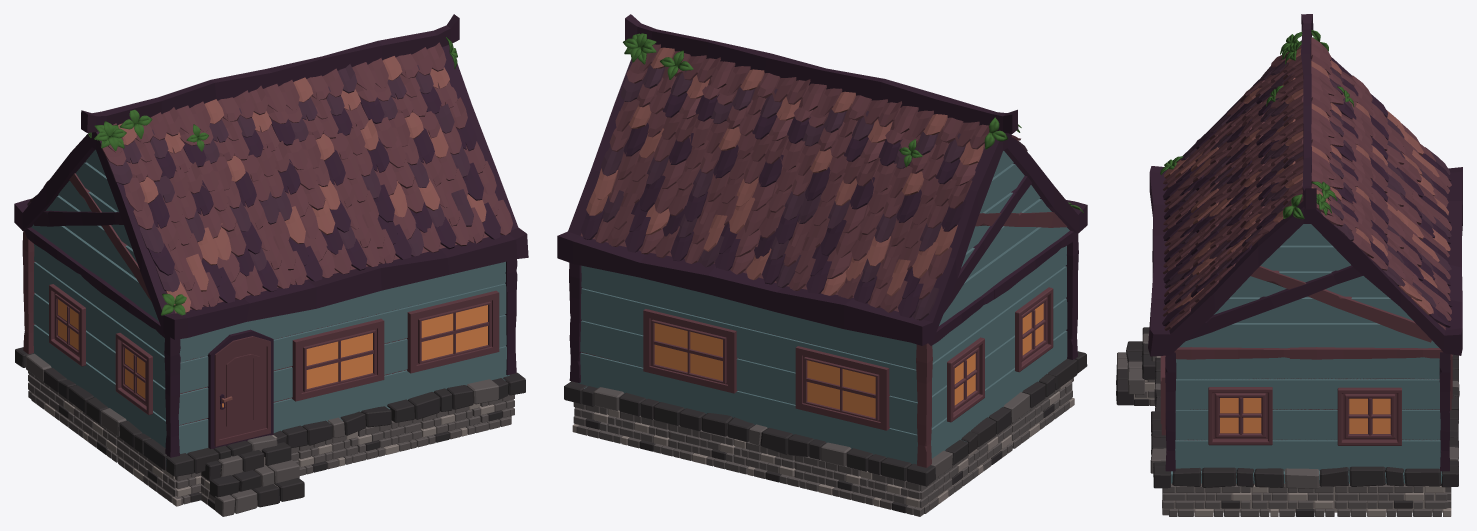
File: casa-madeira7.fbx
The picture shows the model from 3 angles, left to right: view 1: azimuth 30°, elevation 25°; view 2: azimuth 150°, elevation 25°; view 3: azimuth 270°, elevation 25°; orthographic projection. The views are drawn at different scales.
Visible parts, largest first — view 1: Cube.211, Cube.017; view 2: Cube.211; view 3: Cube.211.
Boxes of the visible parts, x1,y1,x2,y2 form: Cube.211: [14, 14, 528, 516]; Cube.017: [214, 336, 270, 446]; Cube.211: [557, 14, 1087, 516]; Cube.211: [1116, 14, 1462, 516].
Size of the model in its own units: 521 by 461 by 430.
